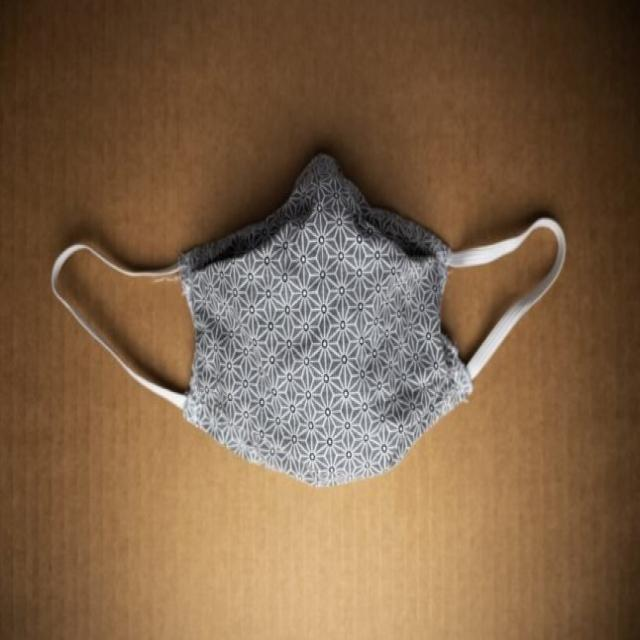non-organic waste: (51, 162, 562, 482)
